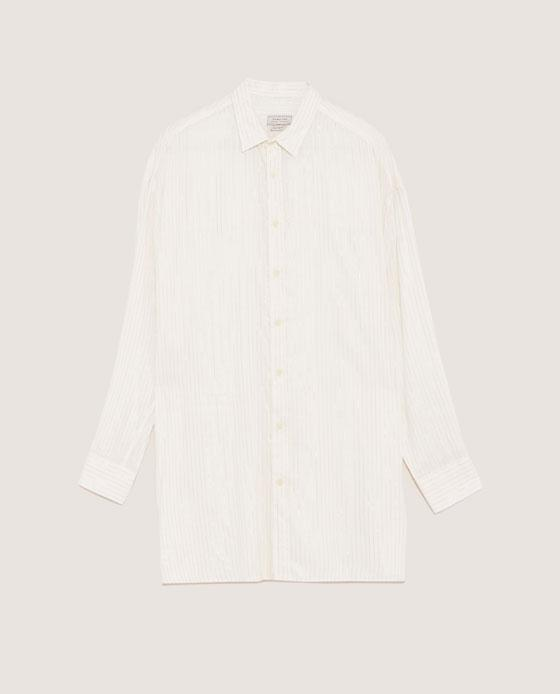teeshirt: (76, 74, 482, 584)
